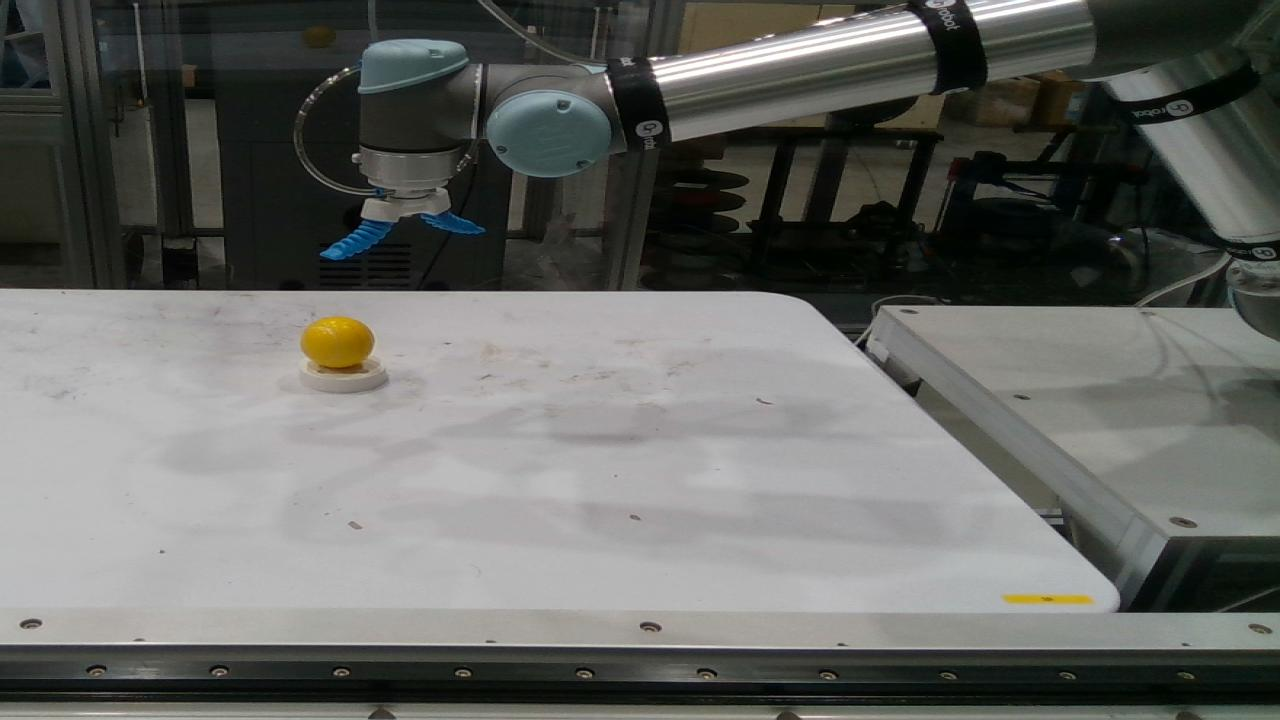UR5: (355, 0, 1279, 339)
gripper_left: (419, 209, 486, 233)
gripper_right: (321, 217, 393, 261)
target: (299, 350, 387, 393), (301, 316, 375, 367)
